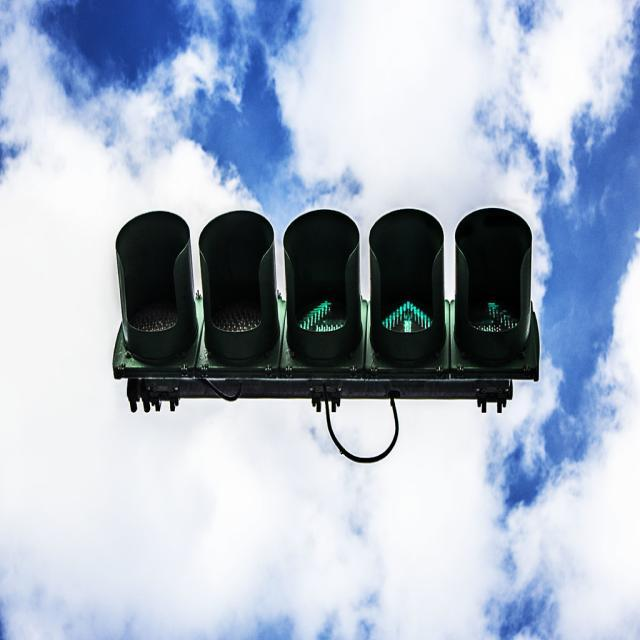traffic light: (103, 188, 544, 453)
